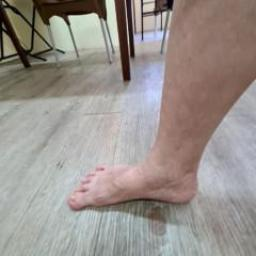Medial View -Right Foot-: (45, 116, 238, 225)
